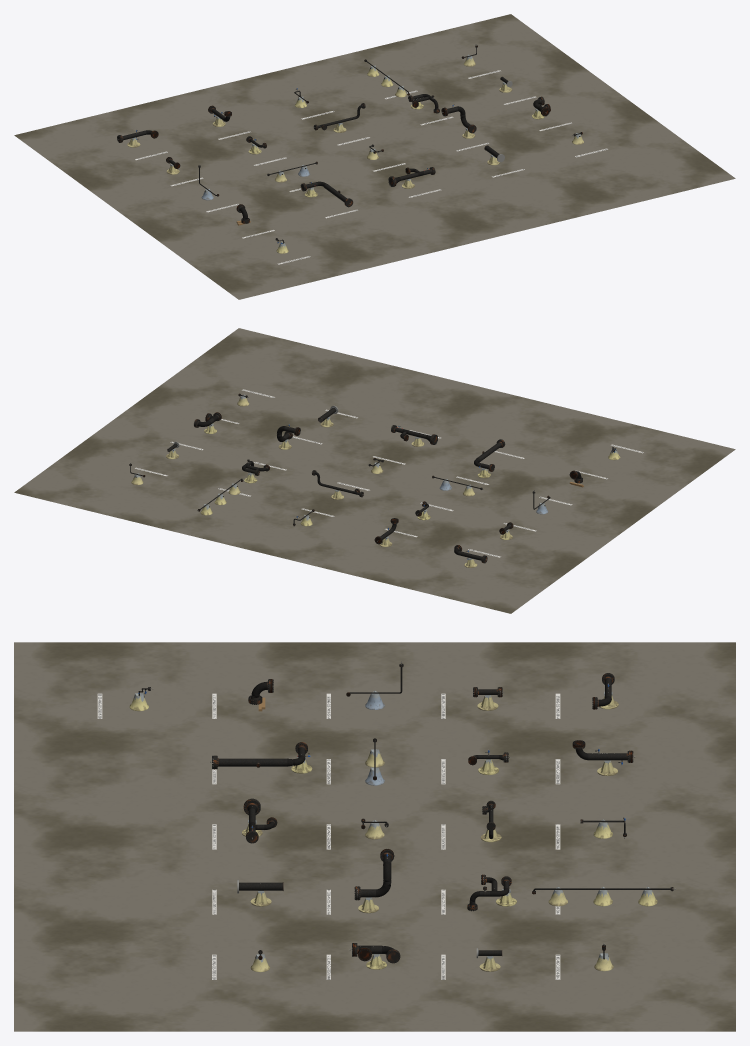
File: world.glb
3 views of the same model, one above another, from view 1: azimuth 30°, elevation 25°; view 2: azimuth 150°, elevation 25°; view 3: azimuth 270°, elevation 25° (orthographic). The views are drawn at different scales.
Visible parts, largest first — view 1: Floor; view 2: Floor; view 3: Floor.
Boxes of the visible parts, x1,y1,x2,y2 form: Floor: (14,14,735,299); Floor: (14,328,735,613); Floor: (14,642,735,1031).
Size of the model in its own units: 37 by 2.13 by 29.
Materials: 43 (31 with a texture image).
